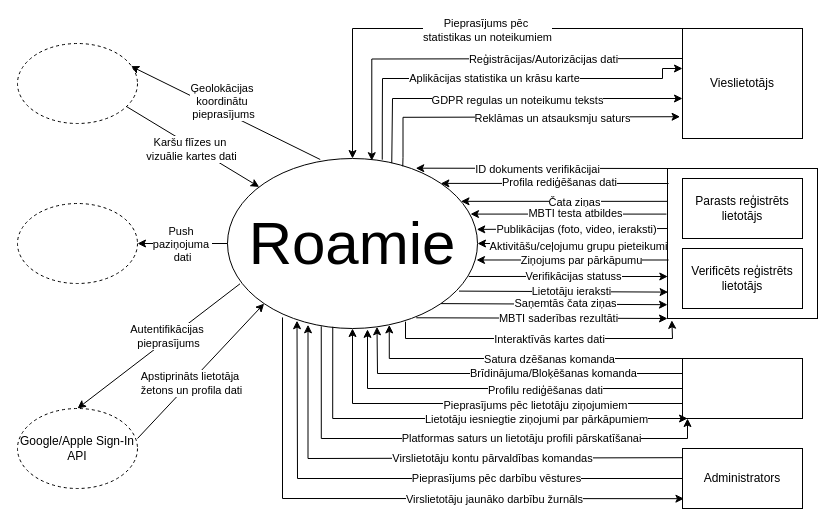
The diagram is 835 pixels wide and 526 high, and some of its shapes have lost their labels. Here are the shapes that lost their labels. From the top down, the centre of each, then its label:
pixel 77 83: Google Maps API
pixel 77 243: Firebase Cloud Messaging
pixel 742 388: Virslietotājs
